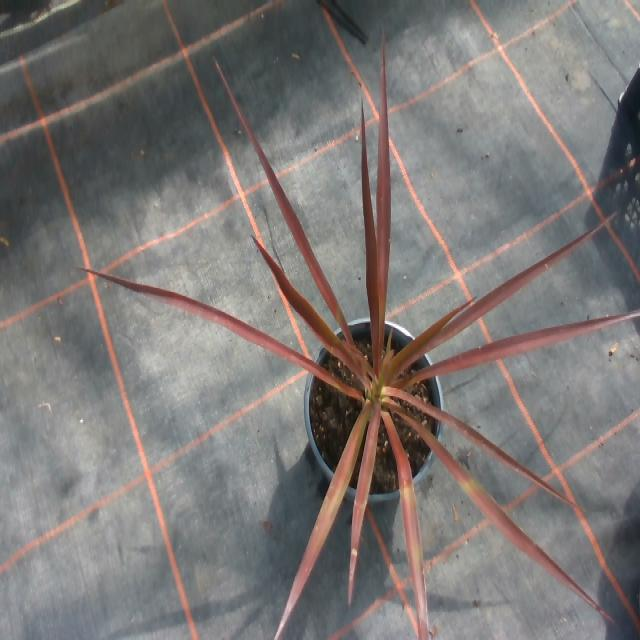Yucca-aloifolia: (385, 401, 612, 620), (216, 61, 351, 341), (83, 268, 357, 396), (423, 223, 603, 351), (274, 403, 371, 639), (394, 309, 639, 387), (413, 400, 572, 503), (259, 245, 355, 363), (382, 412, 426, 639), (349, 403, 378, 601), (362, 111, 378, 345), (377, 35, 390, 321)
